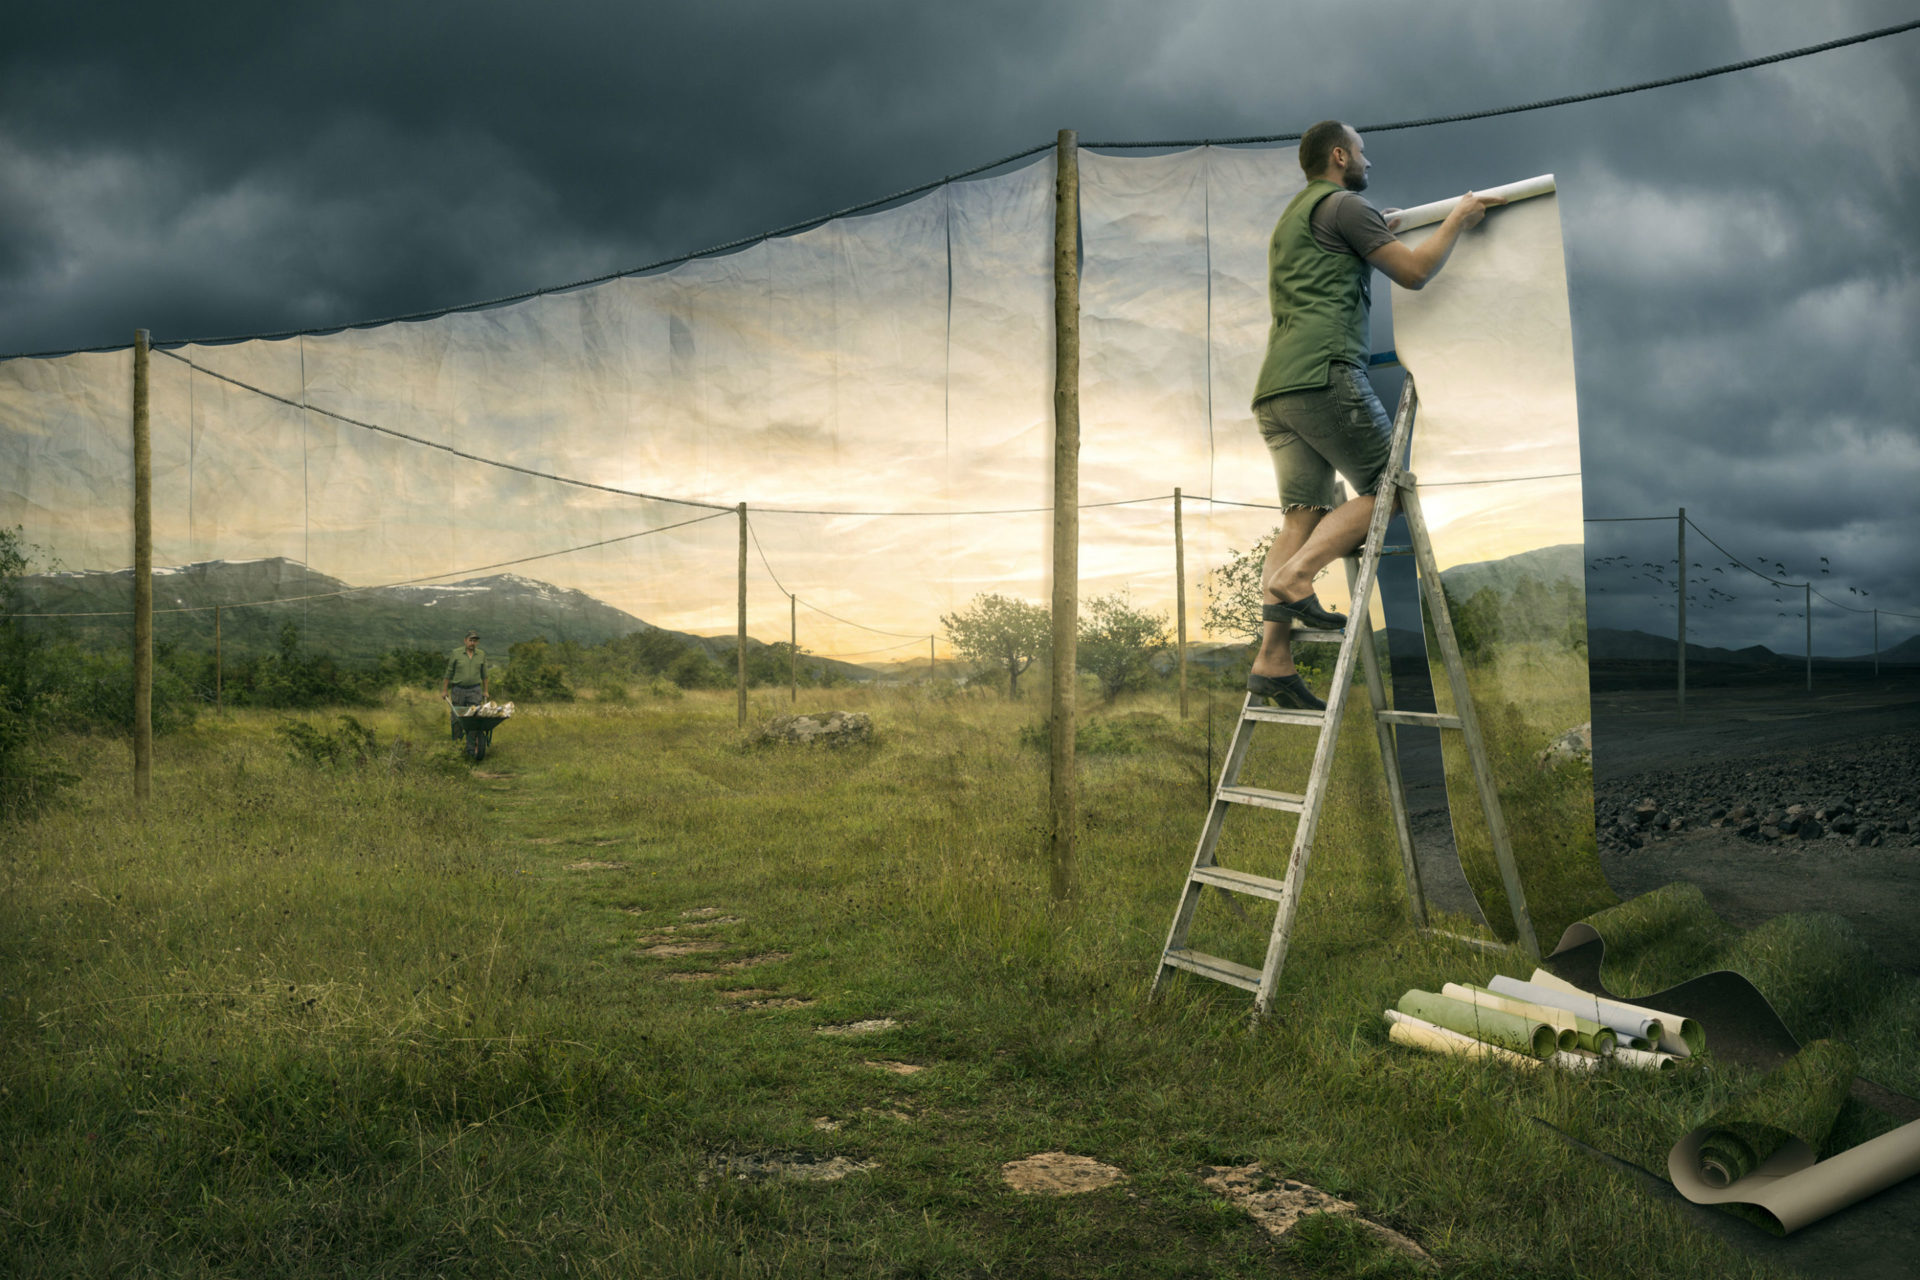person: (1244, 120, 1495, 713)
